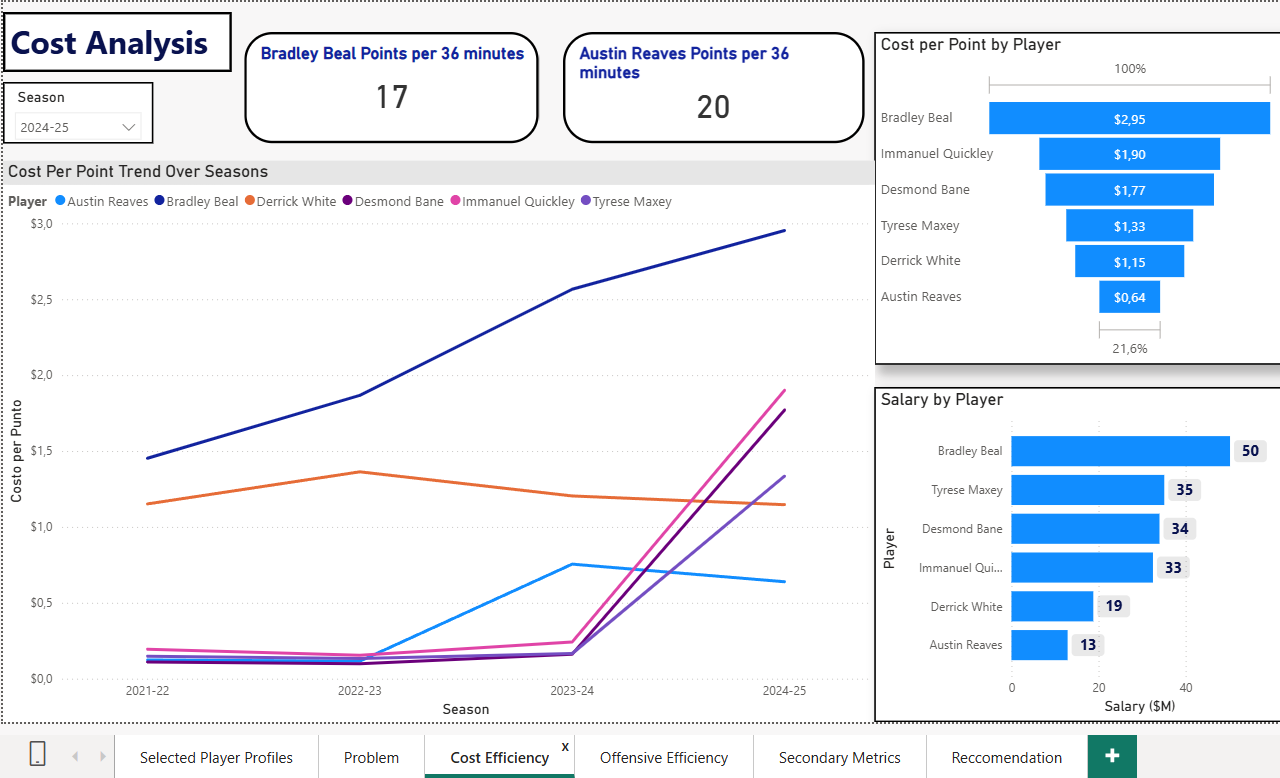

What the dashboard file says about the page in this screenshot:
{"tool":"powerbi","page":{"name":"Cost Efficiency","canvas":[1280,720],"ordinal":2},"visuals":[{"type":"funnel","title":"Cost per Point by Player","fields":{"Category":["NBA_salaries.Player"],"Y":["NBA_salaries.Costo per Punto"]},"box":[871.4,30,408.6,332.9],"z":0},{"type":"slicer","fields":{"Values":["NBA_salaries.Season"]},"box":[0,80,150,61.4],"z":1000},{"type":"lineChart","title":"Cost Per Point Trend Over Seasons","fields":{"Category":["Seasons.Season"],"Y":["NBA_salaries.Costo per Punto"],"Series":["NBA_salaries.Player"]},"box":[0,158.3,871.7,561.7],"z":2000},{"type":"clusteredBarChart","title":"Salary by Player","fields":{"Category":["NBA_salaries.Player"],"Y":["Sum(NBA_salaries.Salario_M)"]},"box":[871.7,385,408.3,335],"z":3000},{"type":"textbox","box":[0,10,228.6,60],"z":4000},{"type":"advanceCardE03760C5AB684758B56AA29F9E6C257B","title":"Austin Reaves Points per 36 minutes","fields":{"tooltipMeasures":["Min(NBA_salaries.Player)"],"mainMeasure":["Sum(NBA_stats.PTS)"]},"box":[560,30,301.4,111.4],"z":5000},{"type":"advanceCardE03760C5AB684758B56AA29F9E6C257B","title":"Bradley Beal Points per 36 minutes","fields":{"tooltipMeasures":["Min(NBA_salaries.Player)"],"mainMeasure":["Sum(NBA_stats.PTS)"]},"box":[241.4,30,294.3,111.4],"z":6000}]}

Visuals, with their boxes on the page's 1280x720 design canvas (x1, y1, x2, y2). These are canvas units, not pixel positions in the 1280x778 screenshot, which may show the page scaled, cropped or inside an application window:
"Cost per Point by Player" funnel: l=871, t=30, r=1280, b=363
slicer - NBA_salaries.Season: l=0, t=80, r=150, b=141
"Cost Per Point Trend Over Seasons" lineChart: l=0, t=158, r=872, b=720
"Salary by Player" clusteredBarChart: l=872, t=385, r=1280, b=720
textbox: l=0, t=10, r=229, b=70
"Austin Reaves Points per 36 minutes" advanceCardE03760C5AB684758B56AA29F9E6C257B: l=560, t=30, r=861, b=141
"Bradley Beal Points per 36 minutes" advanceCardE03760C5AB684758B56AA29F9E6C257B: l=241, t=30, r=536, b=141
